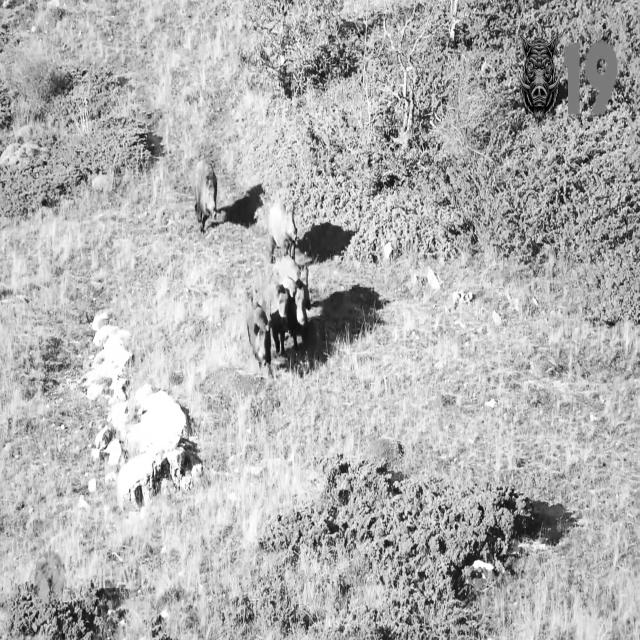boar: (520, 35, 561, 121), (247, 302, 272, 375), (268, 203, 297, 262), (195, 158, 217, 231), (288, 278, 310, 351), (269, 282, 289, 355), (273, 254, 300, 295)
